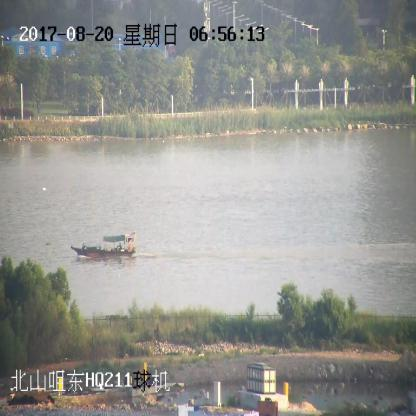Fishing Boat: (72, 232, 136, 259)
